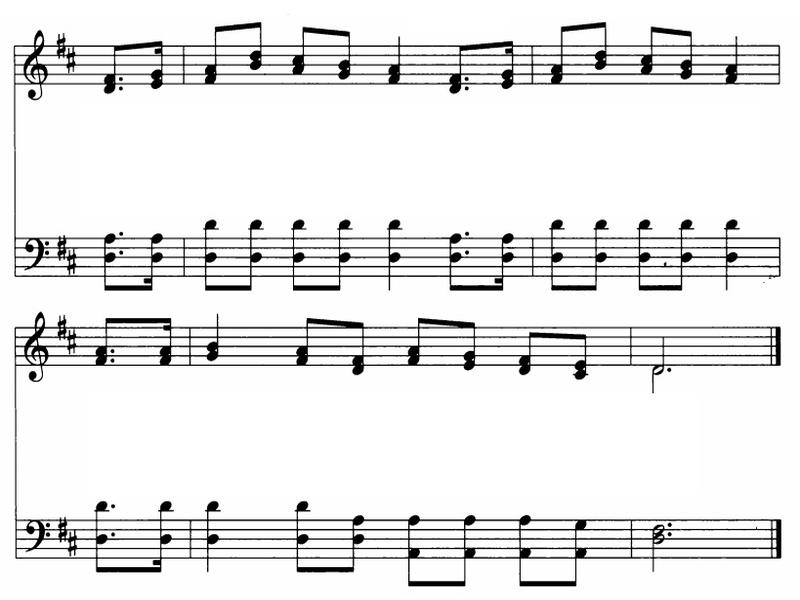B: (645, 522, 664, 566), (650, 333, 666, 377), (649, 363, 666, 393)
C: (560, 495, 600, 594), (239, 195, 275, 297), (447, 500, 486, 589), (670, 190, 700, 295), (540, 206, 574, 295), (544, 7, 578, 90), (507, 505, 540, 590), (321, 206, 352, 293), (202, 204, 227, 307), (584, 209, 611, 300), (338, 504, 370, 579), (398, 513, 428, 589), (289, 213, 316, 296), (636, 202, 657, 296), (670, 19, 700, 83), (287, 484, 308, 575), (586, 9, 613, 78), (438, 225, 464, 296), (289, 16, 318, 78), (639, 18, 667, 80), (516, 314, 541, 382), (569, 320, 595, 385), (458, 318, 485, 380), (95, 31, 118, 97), (335, 21, 357, 90), (291, 314, 317, 372), (344, 314, 368, 373), (441, 33, 464, 94), (91, 495, 106, 584), (91, 313, 114, 368), (407, 308, 427, 371), (251, 1, 266, 73), (100, 224, 115, 294), (208, 19, 224, 83)
CF: (23, 220, 51, 280), (23, 508, 52, 559)
CS: (22, 23, 50, 107), (22, 304, 48, 387)
N: (378, 201, 418, 296), (202, 481, 233, 580), (712, 28, 750, 94), (721, 202, 744, 296), (377, 19, 407, 91), (203, 311, 229, 363)
P: (665, 366, 677, 379), (115, 249, 127, 261), (111, 501, 119, 514), (118, 75, 126, 86), (119, 231, 127, 242), (110, 360, 120, 368), (465, 231, 473, 241), (117, 86, 126, 94), (666, 520, 674, 529), (667, 530, 676, 538), (109, 530, 119, 537), (111, 348, 117, 359), (465, 249, 470, 254)
SC: (145, 485, 187, 574), (141, 34, 175, 97), (137, 220, 162, 300), (154, 308, 179, 382)
SOS: (65, 44, 79, 81), (66, 326, 79, 356), (53, 233, 67, 258), (52, 31, 67, 53), (57, 517, 69, 544), (55, 314, 67, 340), (67, 250, 77, 276), (68, 532, 78, 558)
